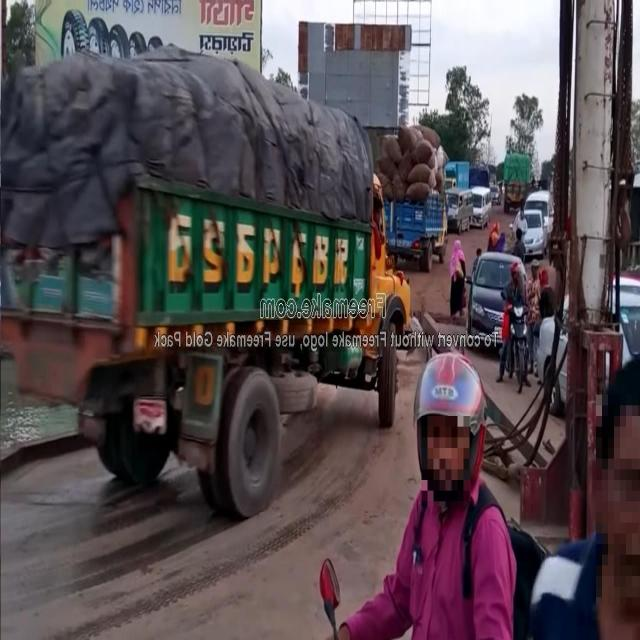car: (461, 246, 530, 347), (520, 210, 546, 253)
microbus: (445, 187, 475, 234), (474, 176, 496, 224)
motorbike: (498, 291, 532, 394)
truck: (0, 36, 416, 488), (382, 156, 458, 274), (501, 142, 535, 211)
